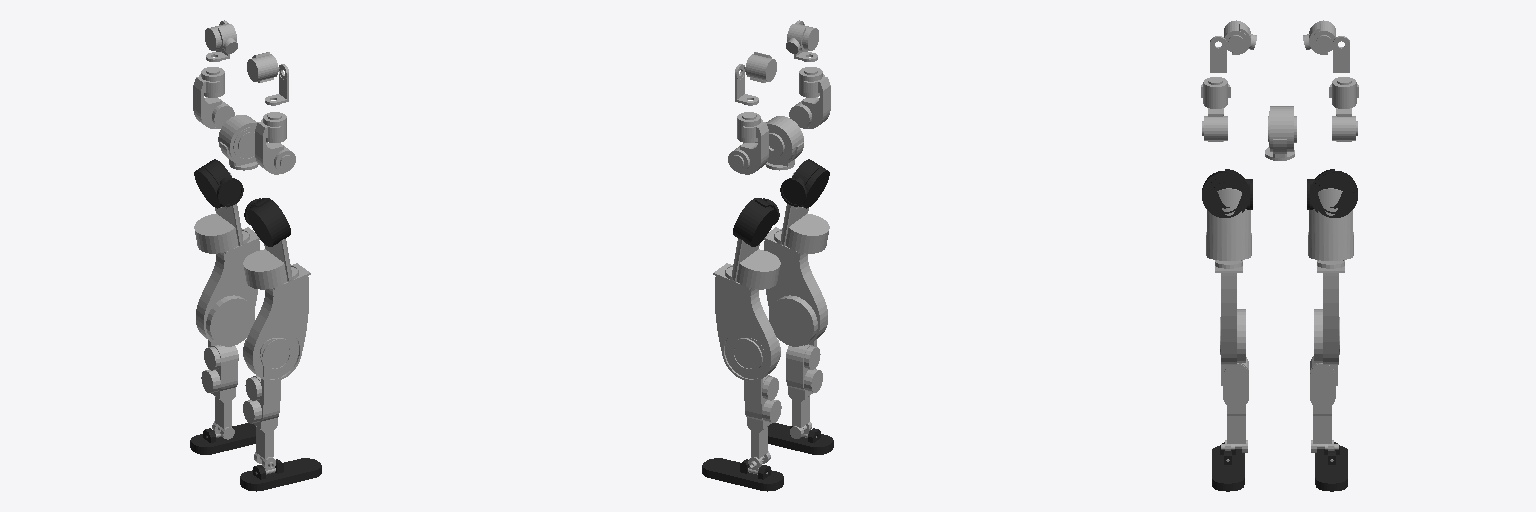
--- Render facts (derived) ---
The picture shows the robot from 3 angles, left to right: view 1: azimuth 30°, elevation 25°; view 2: azimuth 150°, elevation 25°; view 3: azimuth 270°, elevation 25°; orthographic projection.
Model g1_29dof_lock_waist with 40 links and 39 joints (27 revolute, 12 fixed), rooted at pelvis, posed every joint at zero.
Visible links, largest first — view 1: right_hip_yaw_link, left_hip_yaw_link, right_knee_link, left_knee_link, right_shoulder_yaw_link, left_shoulder_yaw_link, left_hip_roll_link, right_hip_roll_link, waist_yaw_link, right_ankle_roll_link, left_hip_pitch_link, right_hip_pitch_link (+3 smaller); view 2: left_hip_yaw_link, right_hip_yaw_link, left_knee_link, right_knee_link, left_shoulder_yaw_link, right_shoulder_yaw_link, right_hip_roll_link, left_hip_roll_link, left_ankle_roll_link, waist_yaw_link, right_hip_pitch_link, left_hip_pitch_link (+3 smaller); view 3: left_hip_roll_link, right_hip_roll_link, left_hip_yaw_link, right_hip_yaw_link, left_knee_link, right_knee_link, right_hip_pitch_link, left_hip_pitch_link, left_shoulder_yaw_link, right_shoulder_yaw_link, waist_yaw_link, left_ankle_roll_link (+5 smaller).
Link boxes in pixels (x1=…): right_hip_yaw_link: x1=243, y1=263, x2=310, y2=381; left_hip_yaw_link: x1=196, y1=227, x2=259, y2=346; right_knee_link: x1=243, y1=338, x2=280, y2=469; left_knee_link: x1=201, y1=340, x2=238, y2=439; right_shoulder_yaw_link: x1=255, y1=112, x2=295, y2=174; left_shoulder_yaw_link: x1=193, y1=67, x2=234, y2=128; left_hip_roll_link: x1=194, y1=172, x2=242, y2=253; right_hip_roll_link: x1=243, y1=239, x2=291, y2=289; waist_yaw_link: x1=218, y1=115, x2=267, y2=170; right_ankle_roll_link: x1=240, y1=458, x2=321, y2=491; left_hip_pitch_link: x1=194, y1=159, x2=243, y2=208; right_hip_pitch_link: x1=244, y1=198, x2=290, y2=246; left_hip_yaw_link: x1=713, y1=263, x2=780, y2=381; right_hip_yaw_link: x1=764, y1=227, x2=827, y2=346; left_knee_link: x1=744, y1=338, x2=781, y2=469; right_knee_link: x1=786, y1=339, x2=822, y2=438; left_shoulder_yaw_link: x1=728, y1=112, x2=768, y2=174; right_shoulder_yaw_link: x1=789, y1=67, x2=830, y2=128; right_hip_roll_link: x1=781, y1=172, x2=829, y2=253; left_hip_roll_link: x1=732, y1=239, x2=780, y2=289; left_ankle_roll_link: x1=702, y1=458, x2=783, y2=491; waist_yaw_link: x1=755, y1=116, x2=803, y2=170; right_hip_pitch_link: x1=780, y1=159, x2=829, y2=208; left_hip_pitch_link: x1=733, y1=198, x2=779, y2=246; left_hip_roll_link: x1=1308, y1=188, x2=1353, y2=260; right_hip_roll_link: x1=1206, y1=188, x2=1251, y2=260; left_hip_yaw_link: x1=1314, y1=260, x2=1344, y2=364; right_hip_yaw_link: x1=1215, y1=260, x2=1245, y2=364; left_knee_link: x1=1310, y1=356, x2=1337, y2=452; right_knee_link: x1=1221, y1=357, x2=1248, y2=452; right_hip_pitch_link: x1=1202, y1=169, x2=1252, y2=217; left_hip_pitch_link: x1=1307, y1=169, x2=1357, y2=217; left_shoulder_yaw_link: x1=1329, y1=77, x2=1358, y2=141; right_shoulder_yaw_link: x1=1201, y1=77, x2=1230, y2=141; waist_yaw_link: x1=1265, y1=106, x2=1296, y2=160; left_ankle_roll_link: x1=1315, y1=442, x2=1347, y2=491.
Size in the robot's own frame: 0.208 by 0.3616 by 1.11 metres.
Meshes: 36 distinct files referenced, 19 mesh visuals loaded (19 binary STL); not drawn: 17 (reference not matched to a file when rendering).

URDF robot description (g1_29dof_lock_waist):
<robot name="g1_29dof_lock_waist">
  <mujoco>
    <compiler meshdir="../meshes" discardvisual="false"/>
  </mujoco>

  <!-- [CAUTION] uncomment when convert to mujoco -->
  <!-- <link name="world"></link>
  <joint name="floating_base_joint" type="floating">
    <parent link="world"/>
    <child link="pelvis"/>
  </joint> -->

  <link name="pelvis">
    <inertial>
      <origin xyz="0 0 -0.07605" rpy="0 0 0"/>
      <mass value="3.813"/>
      <inertia ixx="0.010549" ixy="0" ixz="2.1E-06" iyy="0.0093089" iyz="0" izz="0.0079184"/>
    </inertial>
    <visual>
      <origin xyz="0 0 0" rpy="0 0 0"/>
      <geometry>
        <mesh filename="../meshes/pelvis.STL"/>
      </geometry>
      <material name="dark">
        <color rgba="0.2 0.2 0.2 1"/>
      </material>
    </visual>
  </link>
  <link name="pelvis_contour_link">
    <inertial>
      <origin xyz="0 0 0" rpy="0 0 0"/>
      <mass value="0.001"/>
      <inertia ixx="1e-7" ixy="0" ixz="0" iyy="1e-7" iyz="0" izz="1e-7"/>
    </inertial>
    <visual>
      <origin xyz="0 0 0" rpy="0 0 0"/>
      <geometry>
        <mesh filename="../meshes/pelvis_contour_link.STL"/>
      </geometry>
      <material name="white">
        <color rgba="0.7 0.7 0.7 1"/>
      </material>
    </visual>
    <collision>
      <origin xyz="0 0 0" rpy="0 0 0"/>
      <geometry>
        <mesh filename="../meshes/pelvis_contour_link.STL"/>
      </geometry>
    </collision>
  </link>
  <joint name="pelvis_contour_joint" type="fixed">
    <parent link="pelvis"/>
    <child link="pelvis_contour_link"/>
  </joint>

  <!-- Legs -->
  <link name="left_hip_pitch_link">
    <inertial>
      <origin xyz="0.002741 0.047791 -0.02606" rpy="0 0 0"/>
      <mass value="1.35"/>
      <inertia ixx="0.001811" ixy="3.68E-05" ixz="-3.44E-05" iyy="0.0014193" iyz="0.000171" izz="0.0012812"/>
    </inertial>
    <visual>
      <origin xyz="0 0 0" rpy="0 0 0"/>
      <geometry>
        <mesh filename="../meshes/left_hip_pitch_link.STL"/>
      </geometry>
      <material name="dark">
        <color rgba="0.2 0.2 0.2 1"/>
      </material>
    </visual>
    <collision>
      <origin xyz="0 0 0" rpy="0 0 0"/>
      <geometry>
        <mesh filename="../meshes/left_hip_pitch_link.STL"/>
      </geometry>
    </collision>
  </link>
  <joint name="left_hip_pitch_joint" type="revolute">
    <origin xyz="0 0.064452 -0.1027" rpy="0 0 0"/>
    <parent link="pelvis"/>
    <child link="left_hip_pitch_link"/>
    <axis xyz="0 1 0"/>
    <limit lower="-2.5307" upper="2.8798" effort="88" velocity="32"/>
  </joint>
  <link name="left_hip_roll_link">
    <inertial>
      <origin xyz="0.029812 -0.001045 -0.087934" rpy="0 0 0"/>
      <mass value="1.52"/>
      <inertia ixx="0.0023773" ixy="-3.8E-06" ixz="-0.0003908" iyy="0.0024123" iyz="1.84E-05" izz="0.0016595"/>
    </inertial>
    <visual>
      <origin xyz="0 0 0" rpy="0 0 0"/>
      <geometry>
        <mesh filename="../meshes/left_hip_roll_link.STL"/>
      </geometry>
      <material name="white">
        <color rgba="0.7 0.7 0.7 1"/>
      </material>
    </visual>
    <collision>
      <origin xyz="0 0 0" rpy="0 0 0"/>
      <geometry>
        <mesh filename="../meshes/left_hip_roll_link.STL"/>
      </geometry>
    </collision>
  </link>
  <joint name="left_hip_roll_joint" type="revolute">
    <origin xyz="0 0.052 -0.030465" rpy="0 -0.1749 0"/>
    <parent link="left_hip_pitch_link"/>
    <child link="left_hip_roll_link"/>
    <axis xyz="1 0 0"/>
    <limit lower="-0.5236" upper="2.9671" effort="88" velocity="32"/>
  </joint>
  <link name="left_hip_yaw_link">
    <inertial>
      <origin xyz="-0.057709 -0.010981 -0.15078" rpy="0 0 0"/>
      <mass value="1.702"/>
      <inertia ixx="0.0057774" ixy="-0.0005411" ixz="-0.0023948" iyy="0.0076124" iyz="-0.0007072" izz="0.003149"/>
    </inertial>
    <visual>
      <origin xyz="0 0 0" rpy="0 0 0"/>
      <geometry>
        <mesh filename="../meshes/left_hip_yaw_link.STL"/>
      </geometry>
      <material name="white">
        <color rgba="0.7 0.7 0.7 1"/>
      </material>
    </visual>
    <collision>
      <origin xyz="0 0 0" rpy="0 0 0"/>
      <geometry>
        <mesh filename="../meshes/left_hip_yaw_link.STL"/>
      </geometry>
    </collision>
  </link>
  <joint name="left_hip_yaw_joint" type="revolute">
    <origin xyz="0.025001 0 -0.12412" rpy="0 0 0"/>
    <parent link="left_hip_roll_link"/>
    <child link="left_hip_yaw_link"/>
    <axis xyz="0 0 1"/>
    <limit lower="-2.7576" upper="2.7576" effort="88" velocity="32"/>
  </joint>
  <link name="left_knee_link">
    <inertial>
      <origin xyz="0.005457 0.003964 -0.12074" rpy="0 0 0"/>
      <mass value="1.932"/>
      <inertia ixx="0.011329" ixy="4.82E-05" ixz="-4.49E-05" iyy="0.011277" iyz="-0.0007146" izz="0.0015168"/>
    </inertial>
    <visual>
      <origin xyz="0 0 0" rpy="0 0 0"/>
      <geometry>
        <mesh filename="../meshes/left_knee_link.STL"/>
      </geometry>
      <material name="white">
        <color rgba="0.7 0.7 0.7 1"/>
      </material>
    </visual>
    <collision>
      <origin xyz="0 0 0" rpy="0 0 0"/>
      <geometry>
        <mesh filename="../meshes/left_knee_link.STL"/>
      </geometry>
    </collision>
  </link>
  <joint name="left_knee_joint" type="revolute">
    <origin xyz="-0.078273 0.0021489 -0.17734" rpy="0 0.1749 0"/>
    <parent link="left_hip_yaw_link"/>
    <child link="left_knee_link"/>
    <axis xyz="0 1 0"/>
    <limit lower="-0.087267" upper="2.8798" effort="139" velocity="20"/>
  </joint>
  <link name="left_ankle_pitch_link">
    <inertial>
      <origin xyz="-0.007269 0 0.011137" rpy="0 0 0"/>
      <mass value="0.074"/>
      <inertia ixx="8.4E-06" ixy="0" ixz="-2.9E-06" iyy="1.89E-05" iyz="0" izz="1.26E-05"/>
    </inertial>
    <visual>
      <origin xyz="0 0 0" rpy="0 0 0"/>
      <geometry>
        <mesh filename="../meshes/left_ankle_pitch_link.STL"/>
      </geometry>
      <material name="white">
        <color rgba="0.7 0.7 0.7 1"/>
      </material>
    </visual>
    <collision>
      <origin xyz="0 0 0" rpy="0 0 0"/>
      <geometry>
        <mesh filename="../meshes/left_ankle_pitch_link.STL"/>
      </geometry>
    </collision>
  </link>
  <joint name="left_ankle_pitch_joint" type="revolute">
    <origin xyz="0 -9.4445E-05 -0.30001" rpy="0 0 0"/>
    <parent link="left_knee_link"/>
    <child link="left_ankle_pitch_link"/>
    <axis xyz="0 1 0"/>
    <limit lower="-0.87267" upper="0.5236" effort="50" velocity="37"/>
  </joint>
  <link name="left_ankle_roll_link">
    <inertial>
      <origin xyz="0.026505 0 -0.016425" rpy="0 0 0"/>
      <mass value="0.608"/>
      <inertia ixx="0.0002231" ixy="2E-07" ixz="8.91E-05" iyy="0.0016161" iyz="-1E-07" izz="0.0016667"/>
    </inertial>
    <visual>
      <origin xyz="0 0 0" rpy="0 0 0"/>
      <geometry>
        <mesh filename="../meshes/left_ankle_roll_link.STL"/>
      </geometry>
      <material name="dark">
        <color rgba="0.2 0.2 0.2 1"/>
      </material>
    </visual>
    <collision>
      <origin xyz="-0.05 0.025 -0.03" rpy="0 0 0"/>
      <geometry>
        <sphere radius="0.005"/>
      </geometry>
    </collision>
    <collision>
      <origin xyz="-0.05 -0.025 -0.03" rpy="0 0 0"/>
      <geometry>
        <sphere radius="0.005"/>
      </geometry>
    </collision>
    <collision>
      <origin xyz="0.12 0.03 -0.03" rpy="0 0 0"/>
      <geometry>
        <sphere radius="0.005"/>
      </geometry>
    </collision>
    <collision>
      <origin xyz="0.12 -0.03 -0.03" rpy="0 0 0"/>
      <geometry>
        <sphere radius="0.005"/>
      </geometry>
    </collision>
  </link>
  <joint name="left_ankle_roll_joint" type="revolute">
    <origin xyz="0 0 -0.017558" rpy="0 0 0"/>
    <parent link="left_ankle_pitch_link"/>
    <child link="left_ankle_roll_link"/>
    <axis xyz="1 0 0"/>
    <limit lower="-0.2618" upper="0.2618" effort="50" velocity="37"/>
  </joint>
  <link name="right_hip_pitch_link">
    <inertial>
      <origin xyz="0.002741 -0.047791 -0.02606" rpy="0 0 0"/>
      <mass value="1.35"/>
      <inertia ixx="0.001811" ixy="-3.68E-05" ixz="-3.44E-05" iyy="0.0014193" iyz="-0.000171" izz="0.0012812"/>
    </inertial>
    <visual>
      <origin xyz="0 0 0" rpy="0 0 0"/>
      <geometry>
        <mesh filename="../meshes/right_hip_pitch_link.STL"/>
      </geometry>
      <material name="dark">
        <color rgba="0.2 0.2 0.2 1"/>
      </material>
    </visual>
    <collision>
      <origin xyz="0 0 0" rpy="0 0 0"/>
      <geometry>
        <mesh filename="../meshes/right_hip_pitch_link.STL"/>
      </geometry>
    </collision>
  </link>
  <joint name="right_hip_pitch_joint" type="revolute">
    <origin xyz="0 -0.064452 -0.1027" rpy="0 0 0"/>
    <parent link="pelvis"/>
    <child link="right_hip_pitch_link"/>
    <axis xyz="0 1 0"/>
    <limit lower="-2.5307" upper="2.8798" effort="88" velocity="32"/>
  </joint>
  <link name="right_hip_roll_link">
    <inertial>
      <origin xyz="0.029812 0.001045 -0.087934" rpy="0 0 0"/>
      <mass value="1.52"/>
      <inertia ixx="0.0023773" ixy="3.8E-06" ixz="-0.0003908" iyy="0.0024123" iyz="-1.84E-05" izz="0.0016595"/>
    </inertial>
    <visual>
      <origin xyz="0 0 0" rpy="0 0 0"/>
      <geometry>
        <mesh filename="../meshes/right_hip_roll_link.STL"/>
      </geometry>
      <material name="white">
        <color rgba="0.7 0.7 0.7 1"/>
      </material>
    </visual>
    <collision>
      <origin xyz="0 0 0" rpy="0 0 0"/>
      <geometry>
        <mesh filename="../meshes/right_hip_roll_link.STL"/>
      </geometry>
    </collision>
  </link>
  <joint name="right_hip_roll_joint" type="revolute">
    <origin xyz="0 -0.052 -0.030465" rpy="0 -0.1749 0"/>
    <parent link="right_hip_pitch_link"/>
    <child link="right_hip_roll_link"/>
    <axis xyz="1 0 0"/>
    <limit lower="-2.9671" upper="0.5236" effort="88" velocity="32"/>
  </joint>
  <link name="right_hip_yaw_link">
    <inertial>
      <origin xyz="-0.057709 0.010981 -0.15078" rpy="0 0 0"/>
      <mass value="1.702"/>
      <inertia ixx="0.0057774" ixy="0.0005411" ixz="-0.0023948" iyy="0.0076124" iyz="0.0007072" izz="0.003149"/>
    </inertial>
    <visual>
      <origin xyz="0 0 0" rpy="0 0 0"/>
      <geometry>
        <mesh filename="../meshes/right_hip_yaw_link.STL"/>
      </geometry>
      <material name="white">
        <color rgba="0.7 0.7 0.7 1"/>
      </material>
    </visual>
    <collision>
      <origin xyz="0 0 0" rpy="0 0 0"/>
      <geometry>
        <mesh filename="../meshes/right_hip_yaw_link.STL"/>
      </geometry>
    </collision>
  </link>
  <joint name="right_hip_yaw_joint" type="revolute">
    <origin xyz="0.025001 0 -0.12412" rpy="0 0 0"/>
    <parent link="right_hip_roll_link"/>
    <child link="right_hip_yaw_link"/>
    <axis xyz="0 0 1"/>
    <limit lower="-2.7576" upper="2.7576" effort="88" velocity="32"/>
  </joint>
  <link name="right_knee_link">
    <inertial>
      <origin xyz="0.005457 -0.003964 -0.12074" rpy="0 0 0"/>
      <mass value="1.932"/>
      <inertia ixx="0.011329" ixy="-4.82E-05" ixz="4.49E-05" iyy="0.011277" iyz="0.0007146" izz="0.0015168"/>
    </inertial>
    <visual>
      <origin xyz="0 0 0" rpy="0 0 0"/>
      <geometry>
        <mesh filename="../meshes/right_knee_link.STL"/>
      </geometry>
      <material name="white">
        <color rgba="0.7 0.7 0.7 1"/>
      </material>
    </visual>
    <collision>
      <origin xyz="0 0 0" rpy="0 0 0"/>
      <geometry>
        <mesh filename="../meshes/right_knee_link.STL"/>
      </geometry>
    </collision>
  </link>
  <joint name="right_knee_joint" type="revolute">
    <origin xyz="-0.078273 -0.0021489 -0.17734" rpy="0 0.1749 0"/>
    <parent link="right_hip_yaw_link"/>
    <child link="right_knee_link"/>
    <axis xyz="0 1 0"/>
    <limit lower="-0.087267" upper="2.8798" effort="139" velocity="20"/>
  </joint>
  <link name="right_ankle_pitch_link">
    <inertial>
      <origin xyz="-0.007269 0 0.011137" rpy="0 0 0"/>
      <mass value="0.074"/>
      <inertia ixx="8.4E-06" ixy="0" ixz="-2.9E-06" iyy="1.89E-05" iyz="0" izz="1.26E-05"/>
    </inertial>
    <visual>
      <origin xyz="0 0 0" rpy="0 0 0"/>
      <geometry>
        <mesh filename="../meshes/right_ankle_pitch_link.STL"/>
      </geometry>
      <material name="white">
        <color rgba="0.7 0.7 0.7 1"/>
      </material>
    </visual>
    <collision>
      <origin xyz="0 0 0" rpy="0 0 0"/>
      <geometry>
        <mesh filename="../meshes/right_ankle_pitch_link.STL"/>
      </geometry>
    </collision>
  </link>
  <joint name="right_ankle_pitch_joint" type="revolute">
    <origin xyz="0 9.4445E-05 -0.30001" rpy="0 0 0"/>
    <parent link="right_knee_link"/>
    <child link="right_ankle_pitch_link"/>
    <axis xyz="0 1 0"/>
    <limit lower="-0.87267" upper="0.5236" effort="50" velocity="37"/>
  </joint>
  <link name="right_ankle_roll_link">
    <inertial>
      <origin xyz="0.026505 0 -0.016425" rpy="0 0 0"/>
      <mass value="0.608"/>
      <inertia ixx="0.0002231" ixy="-2E-07" ixz="8.91E-05" iyy="0.0016161" iyz="1E-07" izz="0.0016667"/>
    </inertial>
    <visual>
      <origin xyz="0 0 0" rpy="0 0 0"/>
      <geometry>
        <mesh filename="../meshes/right_ankle_roll_link.STL"/>
      </geometry>
      <material name="dark">
        <color rgba="0.2 0.2 0.2 1"/>
      </material>
    </visual>
    <collision>
      <origin xyz="-0.05 0.025 -0.03" rpy="0 0 0"/>
      <geometry>
        <sphere radius="0.005"/>
      </geometry>
    </collision>
    <collision>
      <origin xyz="-0.05 -0.025 -0.03" rpy="0 0 0"/>
      <geometry>
        <sphere radius="0.005"/>
      </geometry>
    </collision>
    <collision>
      <origin xyz="0.12 0.03 -0.03" rpy="0 0 0"/>
      <geometry>
        <sphere radius="0.005"/>
      </geometry>
    </collision>
    <collision>
      <origin xyz="0.12 -0.03 -0.03" rpy="0 0 0"/>
      <geometry>
        <sphere radius="0.005"/>
      </geometry>
    </collision>
  </link>
  <joint name="right_ankle_roll_joint" type="revolute">
    <origin xyz="0 0 -0.017558" rpy="0 0 0"/>
    <parent link="right_ankle_pitch_link"/>
    <child link="right_ankle_roll_link"/>
    <axis xyz="1 0 0"/>
    <limit lower="-0.2618" upper="0.2618" effort="50" velocity="37"/>
  </joint>

  <!-- Torso -->
  <link name="waist_yaw_link">
    <inertial>
      <origin xyz="0.003964 0 0.018769" rpy="0 0 0"/>
      <mass value="0.244"/>
      <inertia ixx="9.9587E-05" ixy="-1.833E-06" ixz="-1.2617E-05" iyy="0.00012411" iyz="-1.18E-07" izz="0.00015586"/>
    </inertial>
    <visual>
      <origin xyz="0 0 0" rpy="0 0 0"/>
      <geometry>
        <mesh filename="../meshes/waist_yaw_link.STL"/>
      </geometry>
      <material name="white">
        <color rgba="0.7 0.7 0.7 1"/>
      </material>
    </visual>
  </link>
  <joint name="waist_yaw_joint" type="revolute">
    <origin xyz="0 0 0" rpy="0 0 0"/>
    <parent link="pelvis"/>
    <child link="waist_yaw_link"/>
    <axis xyz="0 0 1"/>
    <limit lower="-2.618" upper="2.618" effort="88" velocity="32"/>
  </joint>
  <link name="waist_roll_link">
    <inertial>
      <origin xyz="0 -0.000236 0.010111" rpy="0 0 0"/>
      <mass value="0.047"/>
      <inertia ixx="7.515E-06" ixy="0" ixz="0" iyy="6.398E-06" iyz="9.9E-08" izz="3.988E-06"/>
    </inertial>
    <visual>
      <origin xyz="0 0 0" rpy="0 0 0"/>
      <geometry>
        <mesh filename="../meshes/waist_roll_link.STL"/>
      </geometry>
      <material name="white">
        <color rgba="0.7 0.7 0.7 1"/>
      </material>
    </visual>
  </link>
  <joint name="waist_roll_joint" type="fixed">
    <origin xyz="-0.0039635 0 0.035" rpy="0 0 0"/>
    <parent link="waist_yaw_link"/>
    <child link="waist_roll_link"/>
    <axis xyz="1 0 0"/>
    <limit lower="-0.52" upper="0.52" effort="50" velocity="37"/>
  </joint>
  <link name="torso_link">
    <inertial>
      <origin xyz="0.002601 0.000257 0.153719" rpy="0 0 0"/>
      <mass value="8.562"/>
      <inertia ixx="0.065674966" ixy="-8.597E-05" ixz="-0.001737252" iyy="0.053535188" iyz="8.6899E-05" izz="0.030808125"/>
    </inertial>
    <visual>
      <origin xyz="0 0 0" rpy="0 0 0"/>
      <geometry>
        <mesh filename="../meshes/torso_link.STL"/>
      </geometry>
      <material name="white">
        <color rgba="0.7 0.7 0.7 1"/>
      </material>
    </visual>
    <collision>
      <origin xyz="0 0 0" rpy="0 0 0"/>
      <geometry>
        <mesh filename="../meshes/torso_link.STL"/>
      </geometry>
    </collision>
  </link>
  <joint name="waist_pitch_joint" type="fixed">
    <origin xyz="0 0 0.019" rpy="0 0 0"/>
    <parent link="waist_roll_link"/>
    <child link="torso_link"/>
    <axis xyz="0 1 0"/>
    <limit lower="-0.52" upper="0.52" effort="50" velocity="37"/>
  </joint>

  <!-- LOGO -->
  <joint name="logo_joint" type="fixed">
    <origin xyz="0.0039635 0 -0.054" rpy="0 0 0"/>
    <parent link="torso_link"/>
    <child link="logo_link"/>
  </joint>
  <link name="logo_link">
    <inertial>
      <origin xyz="0 0 0" rpy="0 0 0"/>
      <mass value="0.001"/>
      <inertia ixx="1e-7" ixy="0" ixz="0" iyy="1e-7" iyz="0" izz="1e-7"/>
    </inertial>
    <visual>
      <origin xyz="0 0 0" rpy="0 0 0"/>
      <geometry>
        <mesh filename="../meshes/logo_link.STL"/>
      </geometry>
      <material name="dark">
        <color rgba="0.2 0.2 0.2 1"/>
      </material>
    </visual>
    <collision>
      <origin xyz="0 0 0" rpy="0 0 0"/>
      <geometry>
        <mesh filename="../meshes/logo_link.STL"/>
      </geometry>
    </collision>
  </link>

  <!-- Head -->
  <link name="head_link">
    <inertial>
      <origin xyz="0.005267 0.000299 0.449869" rpy="0 0 0"/>
      <mass value="1.036"/>
      <inertia ixx="0.004085051" ixy="-2.543E-06" ixz="-6.9455E-05" iyy="0.004185212" iyz="-3.726E-06" izz="0.001807911"/>
    </inertial>
    <visual>
      <origin xyz="0 0 0" rpy="0 0 0"/>
      <geometry>
        <mesh filename="../meshes/head_link.STL"/>
      </geometry>
      <material name="dark">
        <color rgba="0.2 0.2 0.2 1"/>
      </material>
    </visual>
    <collision>
      <origin xyz="0 0 0" rpy="0 0 0"/>
      <geometry>
        <mesh filename="../meshes/head_link.STL"/>
      </geometry>
    </collision>
  </link>
  <joint name="head_joint" type="fixed">
    <origin xyz="0.0039635 0 -0.054" rpy="0 0 0"/>
    <parent link="torso_link"/>
    <child link="head_link"/>
  </joint>

  <!-- Waist Support -->
  <link name="waist_support_link">
    <inertial>
      <origin xyz="0 0 0" rpy="0 0 0"/>
      <mass value="0.001"/>
      <inertia ixx="1e-7" ixy="0" ixz="0" iyy="1e-7" iyz="0" izz="1e-7"/>
    </inertial>
    <visual>
      <origin xyz="0 0 0" rpy="0 0 0"/>
      <geometry>
        <mesh filename="../meshes/waist_support_link.STL"/>
      </geometry>
      <material name="white">
        <color rgba="0.7 0.7 0.7 1"/>
      </material>
    </visual>
    <collision>
      <origin xyz="0 0 0" rpy="0 0 0"/>
      <geometry>
        <mesh filename="../meshes/waist_support_link.STL"/>
      </geometry>
    </collision>
  </link>
  <joint name="waist_support_joint" type="fixed">
    <origin xyz="0.0039635 0 -0.054" rpy="0 0 0"/>
    <parent link="torso_link"/>
    <child link="waist_support_link"/>
  </joint>

  <!-- IMU -->
  <link name="imu_in_torso"></link>
  <joint name="imu_in_torso_joint" type="fixed">
    <origin xyz="-0.03959 -0.00224 0.13792" rpy="0 0 0"/>
    <parent link="torso_link"/>
    <child link="imu_in_torso"/>
  </joint>

  <link name="imu_in_pelvis"></link>
  <joint name="imu_in_pelvis_joint" type="fixed">
    <origin xyz="0.04525 0 -0.08339" rpy="0 0 0"/>
    <parent link="pelvis"/>
    <child link="imu_in_pelvis"/>
  </joint>

  <!-- d435 -->
  <link name="d435_link"></link>
  <joint name="d435_joint" type="fixed">
    <origin xyz="0.0576235 0.01753 0.41987" rpy="0 0.8307767239493009 0"/>
    <parent link="torso_link"/>
    <child link="d435_link"/>
  </joint>

  <!-- mid360 -->
  <link name="mid360_link"></link>
  <joint name="mid360_joint" type="fixed">
    <origin xyz="0.0002835 0.00003 0.40618" rpy="0 0.04014257279586953 0"/>
    <parent link="torso_link"/>
    <child link="mid360_link"/>
  </joint>

  <!-- Arm -->
  <link name="left_shoulder_pitch_link">
    <inertial>
      <origin xyz="0 0.035892 -0.011628" rpy="0 0 0"/>
      <mass value="0.718"/>
      <inertia ixx="0.0004291" ixy="-9.2E-06" ixz="6.4E-06" iyy="0.000453" iyz="2.26E-05" izz="0.000423"/>
    </inertial>
    <visual>
      <origin xyz="0 0 0" rpy="0 0 0"/>
      <geometry>
        <mesh filename="../meshes/left_shoulder_pitch_link.STL"/>
      </geometry>
      <material name="white">
        <color rgba="0.7 0.7 0.7 1"/>
      </material>
    </visual>
    <collision>
      <origin xyz="0 0.04 -0.01" rpy="0 1.5707963267948966 0"/>
      <geometry>
        <cylinder radius="0.03" length="0.05"/>
      </geometry>
    </collision>
  </link>
  <joint name="left_shoulder_pitch_joint" type="revolute">
    <origin xyz="0.0039563 0.10022 0.23778" rpy="0.27931 5.4949E-05 -0.00019159"/>
    <parent link="torso_link"/>
    <child link="left_shoulder_pitch_link"/>
    <axis xyz="0 1 0"/>
    <limit lower="-3.0892" upper="2.6704" effort="25" velocity="37"/>
  </joint>
  <link name="left_shoulder_roll_link">
    <inertial>
      <origin xyz="-0.000227 0.00727 -0.063243" rpy="0 0 0"/>
      <mass value="0.643"/>
      <inertia ixx="0.0006177" ixy="-1E-06" ixz="8.7E-06" iyy="0.0006912" iyz="-5.3E-06" izz="0.0003894"/>
    </inertial>
    <visual>
      <origin xyz="0 0 0" rpy="0 0 0"/>
      <geometry>
        <mesh filename="../meshes/left_shoulder_roll_link.STL"/>
      </geometry>
      <material name="white">
        <color rgba="0.7 0.7 0.7 1"/>
      </material>
    </visual>
    <collision>
      <origin xyz="-0.004 0.006 -0.053" rpy="0 0 0"/>
      <geometry>
        <cylinder radius="0.03" length="0.03"/>
      </geometry>
    </collision>
  </link>
  <joint name="left_shoulder_roll_joint" type="revolute">
    <origin xyz="0 0.038 -0.013831" rpy="-0.27925 0 0"/>
    <parent link="left_shoulder_pitch_link"/>
    <child link="left_shoulder_roll_link"/>
    <axis xyz="1 0 0"/>
    <limit lower="-1.5882" upper="2.2515" effort="25" velocity="37"/>
  </joint>
  <link name="left_shoulder_yaw_link">
    <inertial>
      <origin xyz="0.010773 -0.002949 -0.072009" rpy="0 0 0"/>
      <mass value="0.734"/>
      <inertia ixx="0.0009988" ixy="7.9E-06" ixz="0.0001412" iyy="0.0010605" iyz="-2.86E-05" izz="0.0004354"/>
    </inertial>
    <visual>
      <origin xyz="0 0 0" rpy="0 0 0"/>
      <geometry>
        <mesh filename="../meshes/left_shoulder_yaw_link.STL"/>
      </geometry>
      <material name="white">
        <color rgba="0.7 0.7 0.7 1"/>
      </material>
    </visual>
    <collision>
      <origin xyz="0 0 0" rpy="0 0 0"/>
      <geometry>
        <mesh filename="../meshes/left_shoulder_yaw_link.STL"/>
      </geometry>
    </collision>
  </link>
  <joint name="left_shoulder_yaw_joint" type="revolute">
    <origin xyz="0 0.00624 -0.1032" rpy="0 0 0"/>
    <parent link="left_shoulder_roll_link"/>
    <child link="left_shoulder_yaw_link"/>
    <axis xyz="0 0 1"/>
    <limit lower="-2.618" upper="2.618" effort="25" velocity="37"/>
  </joint>
  <link name="left_elbow_link">
    <inertial>
      <origin xyz="0.064956 0.004454 -0.010062" rpy="0 0 0"/>
      <mass value="0.6"/>
      <inertia ixx="0.0002891" ixy="6.53E-05" ixz="1.72E-05" iyy="0.0004152" iyz="-5.6E-06" izz="0.0004197"/>
    </inertial>
    <visual>
      <origin xyz="0 0 0" rpy="0 0 0"/>
      <geometry>
        <mesh filename="../meshes/left_elbow_link.STL"/>
      </geometry>
      <material name="white">
        <color rgba="0.7 0.7 0.7 1"/>
      </material>
    </visual>
    <collision>
      <origin xyz="0 0 0" rpy="0 0 0"/>
      <geometry>
        <mesh filename="../meshes/left_elbow_link.STL"/>
      </geometry>
    </collision>
  </link>
  <joint name="left_elbow_joint" type="revolute">
    <origin xyz="0.015783 0 -0.080518" rpy="0 0 0"/>
    <parent link="left_shoulder_yaw_link"/>
    <child link="left_elbow_link"/>
    <axis xyz="0 1 0"/>
    <limit lower="-1.0472" upper="2.0944" effort="25" velocity="37"/>
  </joint>
  <joint name="left_wrist_roll_joint" type="revolute">
    <origin xyz="0.100 0.00188791 -0.010" rpy="0 0 0"/>
    <axis xyz="1 0 0"/>
    <parent link="left_elbow_link"/>
    <child link="left_wrist_roll_link"/>
    <limit effort="25" velocity="37" lower="-1.972222054" upper="1.972222054"/>
  </joint>
  <link name="left_wrist_roll_link">
    <inertial>
      <origin xyz="0.01713944778 0.00053759094 0.00000048864" rpy="0 0 0"/>
      <mass value="0.08544498"/>
      <inertia ixx="0.00004821544023" ixy="-0.00000424511021" ixz="0.00000000510599" iyy="0.00003722899093" iyz="-0.00000000123525" izz="0.00005482106541"/>
    </inertial>
    <visual>
      <origin xyz="0 0 0" rpy="0 0 0"/>
      <geometry>
        <mesh filename="../meshes/left_wrist_roll_link.STL"/>
      </geometry>
      <material name="white">
        <color rgba="0.7 0.7 0.7 1"/>
      </material>
    </visual>
    <collision>
      <origin xyz="0 0 0" rpy="0 0 0"/>
      <geometry>
        <mesh filename="../meshes/left_wrist_roll_link.STL"/>
      </geometry>
    </collision>
  </link>
  <joint name="left_wrist_pitch_joint" type="revolute">
    <origin xyz="0.038 0 0" rpy="0 0 0"/>
    <axis xyz="0 1 0"/>
    <parent link="left_wrist_roll_link"/>
    <child link="left_wrist_pitch_link"/>
    <limit effort="5" velocity="22" lower="-1.614429558" upper="1.614429558"/>
  </joint>
  <link name="left_wrist_pitch_link">
    <inertial>
      <origin xyz="0.02299989837 -0.00111685314 -0.00111658096" rpy="0 0 0"/>
      <mass value="0.48404956"/>
      <inertia ixx="0.00016579646273" ixy="-0.00001231206746" ixz="0.00001231699194" iyy="0.00042954057410" iyz="0.00000081417712" izz="0.00042953697654"/>
    </inertial>
    <visual>
      <origin xyz="0 0 0" rpy="0 0 0"/>
      <geometry>
        <mesh filename="../meshes/left_wrist_pitch_link.STL"/>
      </geometry>
      <material name="white">
        <color rgba="0.7 0.7 0.7 1"/>
      </material>
    </visual>
    <collision>
      <origin xyz="0 0 0" rpy="0 0 0"/>
      <geometry>
        <mesh filename="../meshes/left_wrist_pitch_link.STL"/>
      </geometry>
    </collision>
  </link>
  <joint name="left_wrist_yaw_joint" type="revolute">
    <origin xyz="0.046 0 0" rpy="0 0 0"/>
    <axis xyz="0 0 1"/>
    <parent link="left_wrist_pitch_link"/>
    <child link="left_wrist_yaw_link"/>
    <limit effort="5" velocity="22" lower="-1.614429558" upper="1.614429558"/>
  </joint>
  <link name="left_wrist_yaw_link">
    <inertial>
      <origin xyz="0.02200381568 0.00049485096 0.00053861123" rpy="0 0 0"/>
      <mass value="0.08457647"/>
      <inertia ixx="0.00004929128828" ixy="-0.00000045735494" ixz="0.00000445867591" iyy="0.00005973338134" iyz="0.00000043217198" izz="0.00003928083826"/>
    </inertial>
    <visual>
      <origin xyz="0 0 0" rpy="0 0 0"/>
      <geometry>
        <mesh filename="../meshes/left_wrist_yaw_link.STL"/>
      </geometry>
      <material name="white">
        <color rgba="0.7 0.7 0.7 1"/>
      </material>
    </visual>
    <collision>
      <origin xyz="0 0 0" rpy="0 0 0"/>
      <geometry>
        <mesh filename="../meshes/left_wrist_yaw_link.STL"/>
      </geometry>
    </collision>
  </link>
  <joint name="left_hand_palm_joint" type="fixed">
    <origin xyz="0.0415 0.003 0" rpy="0 0 0"/>
    <parent link="left_wrist_yaw_link"/>
    <child link="left_rubber_hand"/>
  </joint>
  <link name="left_rubber_hand">
    <inertial>
      <origin xyz="0.05361310808 -0.00295905240 0.00215413091" rpy="0 0 0"/>
      <mass value="0.170"/>
      <inertia ixx="0.00010099485234748" ixy="0.00003618590790516" ixz="-0.00000074301518642" iyy="0.00028135871571621" iyz="0.00000330189743286" izz="0.00021894770413514"/>
    </inertial>
    <visual>
      <origin xyz="0 0 0" rpy="0 0 0"/>
      <geometry>
        <mesh filename="../meshes/left_rubber_hand.STL"/>
      </geometry>
      <material name="white">
        <color rgba="0.7 0.7 0.7 1"/>
      </material>
    </visual>
  </link>
  <link name="right_shoulder_pitch_link">
    <inertial>
      <origin xyz="0 -0.035892 -0.011628" rpy="0 0 0"/>
      <mass value="0.718"/>
      <inertia ixx="0.0004291" ixy="9.2E-06" ixz="6.4E-06" iyy="0.000453" iyz="-2.26E-05" izz="0.000423"/>
    </inertial>
    <visual>
      <origin xyz="0 0 0" rpy="0 0 0"/>
      <geometry>
        <mesh filename="../meshes/right_shoulder_pitch_link.STL"/>
      </geometry>
      <material name="white">
        <color rgba="0.7 0.7 0.7 1"/>
      </material>
    </visual>
    <collision>
      <origin xyz="0 -0.04 -0.01" rpy="0 1.5707963267948966 0"/>
      <geometry>
        <cylinder radius="0.03" length="0.05"/>
      </geometry>
    </collision>
  </link>
  <joint name="right_shoulder_pitch_joint" type="revolute">
    <origin xyz="0.0039563 -0.10021 0.23778" rpy="-0.27931 5.4949E-05 0.00019159"/>
    <parent link="torso_link"/>
    <child link="right_shoulder_pitch_link"/>
    <axis xyz="0 1 0"/>
    <limit lower="-3.0892" upper="2.6704" effort="25" velocity="37"/>
  </joint>
  <link name="right_shoulder_roll_link">
    <inertial>
      <origin xyz="-0.000227 -0.00727 -0.063243" rpy="0 0 0"/>
      <mass value="0.643"/>
      <inertia ixx="0.0006177" ixy="1E-06" ixz="8.7E-06" iyy="0.0006912" iyz="5.3E-06" izz="0.0003894"/>
    </inertial>
    <visual>
      <origin xyz="0 0 0" rpy="0 0 0"/>
      <geometry>
        <mesh filename="../meshes/right_shoulder_roll_link.STL"/>
      </geometry>
      <material name="white">
        <color rgba="0.7 0.7 0.7 1"/>
      </material>
    </visual>
    <collision>
      <origin xyz="-0.004 -0.006 -0.053" rpy="0 0 0"/>
      <geometry>
        <cylinder radius="0.03" length="0.03"/>
      </geometry>
    </collision>
  </link>
  <joint name="right_shoulder_roll_joint" type="revolute">
    <origin xyz="0 -0.038 -0.013831" rpy="0.27925 0 0"/>
    <parent link="right_shoulder_pitch_link"/>
    <child link="right_shoulder_roll_link"/>
    <axis xyz="1 0 0"/>
    <limit lower="-2.2515" upper="1.5882" effort="25" velocity="37"/>
  </joint>
  <link name="right_shoulder_yaw_link">
    <inertial>
      <origin xyz="0.010773 0.002949 -0.072009" rpy="0 0 0"/>
      <mass value="0.734"/>
      <inertia ixx="0.0009988" ixy="-7.9E-06" ixz="0.0001412" iyy="0.0010605" iyz="2.86E-05" izz="0.0004354"/>
    </inertial>
    <visual>
      <origin xyz="0 0 0" rpy="0 0 0"/>
      <geometry>
        <mesh filename="../meshes/right_shoulder_yaw_link.STL"/>
      </geometry>
      <material name="white">
        <color rgba="0.7 0.7 0.7 1"/>
      </material>
    </visual>
    <collision>
      <origin xyz="0 0 0" rpy="0 0 0"/>
      <geometry>
        <mesh filename="../meshes/right_shoulder_yaw_link.STL"/>
      </geometry>
    </collision>
  </link>
  <joint name="right_shoulder_yaw_joint" type="revolute">
    <origin xyz="0 -0.00624 -0.1032" rpy="0 0 0"/>
    <parent link="right_shoulder_roll_link"/>
    <child link="right_shoulder_yaw_link"/>
    <axis xyz="0 0 1"/>
    <limit lower="-2.618" upper="2.618" effort="25" velocity="37"/>
  </joint>
  <link name="right_elbow_link">
    <inertial>
      <origin xyz="0.064956 -0.004454 -0.010062" rpy="0 0 0"/>
      <mass value="0.6"/>
      <inertia ixx="0.0002891" ixy="-6.53E-05" ixz="1.72E-05" iyy="0.0004152" iyz="5.6E-06" izz="0.0004197"/>
    </inertial>
    <visual>
      <origin xyz="0 0 0" rpy="0 0 0"/>
      <geometry>
        <mesh filename="../meshes/right_elbow_link.STL"/>
      </geometry>
      <material name="white">
        <color rgba="0.7 0.7 0.7 1"/>
      </material>
    </visual>
    <collision>
      <origin xyz="0 0 0" rpy="0 0 0"/>
      <geometry>
        <mesh filename="../meshes/right_elbow_link.STL"/>
      </geometry>
    </collision>
  </link>
  <joint name="right_elbow_joint" type="revolute">
    <origin xyz="0.015783 0 -0.080518" rpy="0 0 0"/>
    <parent link="right_shoulder_yaw_link"/>
    <child link="right_elbow_link"/>
    <axis xyz="0 1 0"/>
    <limit lower="-1.0472" upper="2.0944" effort="25" velocity="37"/>
  </joint>
  <joint name="right_wrist_roll_joint" type="revolute">
    <origin xyz="0.100 -0.00188791 -0.010" rpy="0 0 0"/>
    <axis xyz="1 0 0"/>
    <parent link="right_elbow_link"/>
    <child link="right_wrist_roll_link"/>
    <limit effort="25" velocity="37" lower="-1.972222054" upper="1.972222054"/>
  </joint>
  <link name="right_wrist_roll_link">
    <inertial>
      <origin xyz="0.01713944778 -0.00053759094 0.00000048864" rpy="0 0 0"/>
      <mass value="0.08544498"/>
      <inertia ixx="0.00004821544023" ixy="0.00000424511021" ixz="0.00000000510599" iyy="0.00003722899093" iyz="0.00000000123525" izz="0.00005482106541"/>
    </inertial>
    <visual>
      <origin xyz="0 0 0" rpy="0 0 0"/>
      <geometry>
        <mesh filename="../meshes/right_wrist_roll_link.STL"/>
      </geometry>
      <material name="white">
        <color rgba="0.7 0.7 0.7 1"/>
      </material>
    </visual>
    <collision>
      <origin xyz="0 0 0" rpy="0 0 0"/>
      <geometry>
        <mesh filename="../meshes/right_wrist_roll_link.STL"/>
      </geometry>
    </collision>
  </link>
  <joint name="right_wrist_pitch_joint" type="revolute">
    <origin xyz="0.038 0 0" rpy="0 0 0"/>
    <axis xyz="0 1 0"/>
    <parent link="right_wrist_roll_link"/>
    <child link="right_wrist_pitch_link"/>
    <limit effort="5" velocity="22" lower="-1.614429558" upper="1.614429558"/>
  </joint>
  <link name="right_wrist_pitch_link">
    <inertial>
      <origin xyz="0.02299989837 0.00111685314 -0.00111658096" rpy="0 0 0"/>
      <mass value="0.48404956"/>
      <inertia ixx="0.00016579646273" ixy="0.00001231206746" ixz="0.00001231699194" iyy="0.00042954057410" iyz="-0.00000081417712" izz="0.00042953697654"/>
    </inertial>
    <visual>
      <origin xyz="0 0 0" rpy="0 0 0"/>
      <geometry>
        <mesh filename="../meshes/right_wrist_pitch_link.STL"/>
      </geometry>
      <material name="white">
        <color rgba="0.7 0.7 0.7 1"/>
      </material>
    </visual>
    <collision>
      <origin xyz="0 0 0" rpy="0 0 0"/>
      <geometry>
        <mesh filename="../meshes/right_wrist_pitch_link.STL"/>
      </geometry>
    </collision>
  </link>
  <joint name="right_wrist_yaw_joint" type="revolute">
    <origin xyz="0.046 0 0" rpy="0 0 0"/>
    <axis xyz="0 0 1"/>
    <parent link="right_wrist_pitch_link"/>
    <child link="right_wrist_yaw_link"/>
    <limit effort="5" velocity="22" lower="-1.614429558" upper="1.614429558"/>
  </joint>
  <link name="right_wrist_yaw_link">
    <inertial>
      <origin xyz="0.02200381568 -0.00049485096 0.00053861123" rpy="0 0 0"/>
      <mass value="0.08457647"/>
      <inertia ixx="0.00004929128828" ixy="0.00000045735494" ixz="0.00000445867591" iyy="0.00005973338134" iyz="-0.00000043217198" izz="0.00003928083826"/>
    </inertial>
    <visual>
      <origin xyz="0 0 0" rpy="0 0 0"/>
      <geometry>
        <mesh filename="../meshes/right_wrist_yaw_link.STL"/>
      </geometry>
      <material name="white">
        <color rgba="0.7 0.7 0.7 1"/>
      </material>
    </visual>
    <collision>
      <origin xyz="0 0 0" rpy="0 0 0"/>
      <geometry>
        <mesh filename="../meshes/right_wrist_yaw_link.STL"/>
      </geometry>
    </collision>
  </link>
  <joint name="right_hand_palm_joint" type="fixed">
    <origin xyz="0.0415 -0.003 0" rpy="0 0 0"/>
    <parent link="right_wrist_yaw_link"/>
    <child link="right_rubber_hand"/>
  </joint>
  <link name="right_rubber_hand">
    <inertial>
      <origin xyz="0.05361310808 0.00295905240 0.00215413091" rpy="0 0 0"/>
      <mass value="0.170"/>
      <inertia ixx="0.00010099485234748" ixy="-0.00003618590790516" ixz="-0.00000074301518642" iyy="0.00028135871571621" iyz="-0.00000330189743286" izz="0.00021894770413514"/>
    </inertial>
    <visual>
      <origin xyz="0 0 0" rpy="0 0 0"/>
      <geometry>
        <mesh filename="../meshes/right_rubber_hand.STL"/>
      </geometry>
      <material name="white">
        <color rgba="0.7 0.7 0.7 1"/>
      </material>
    </visual>
  </link>
</robot>
